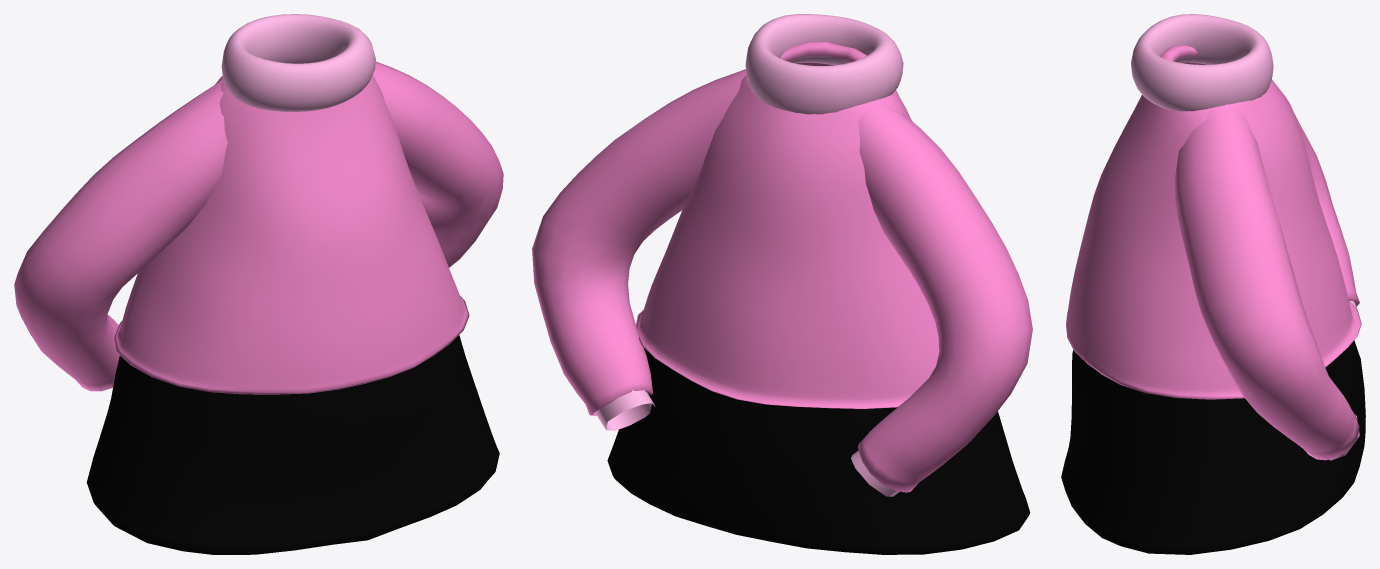
Rendered from ShirtSkirt2.FBX.
The picture shows the model from 3 angles, left to right: view 1: azimuth 30°, elevation 25°; view 2: azimuth 150°, elevation 25°; view 3: azimuth 270°, elevation 25°; orthographic projection. The views are drawn at different scales.
Visible parts, largest first — view 1: Shirt_Skirt; view 2: Shirt_Skirt; view 3: Shirt_Skirt.
Part boxes in pixels (left/top/right/bottom): Shirt_Skirt: left=14, top=14, right=503, bottom=554; Shirt_Skirt: left=532, top=14, right=1032, bottom=554; Shirt_Skirt: left=1061, top=14, right=1365, bottom=554.
Bounding box in the file's own units: 28.62 × 25.99 × 16.4.
